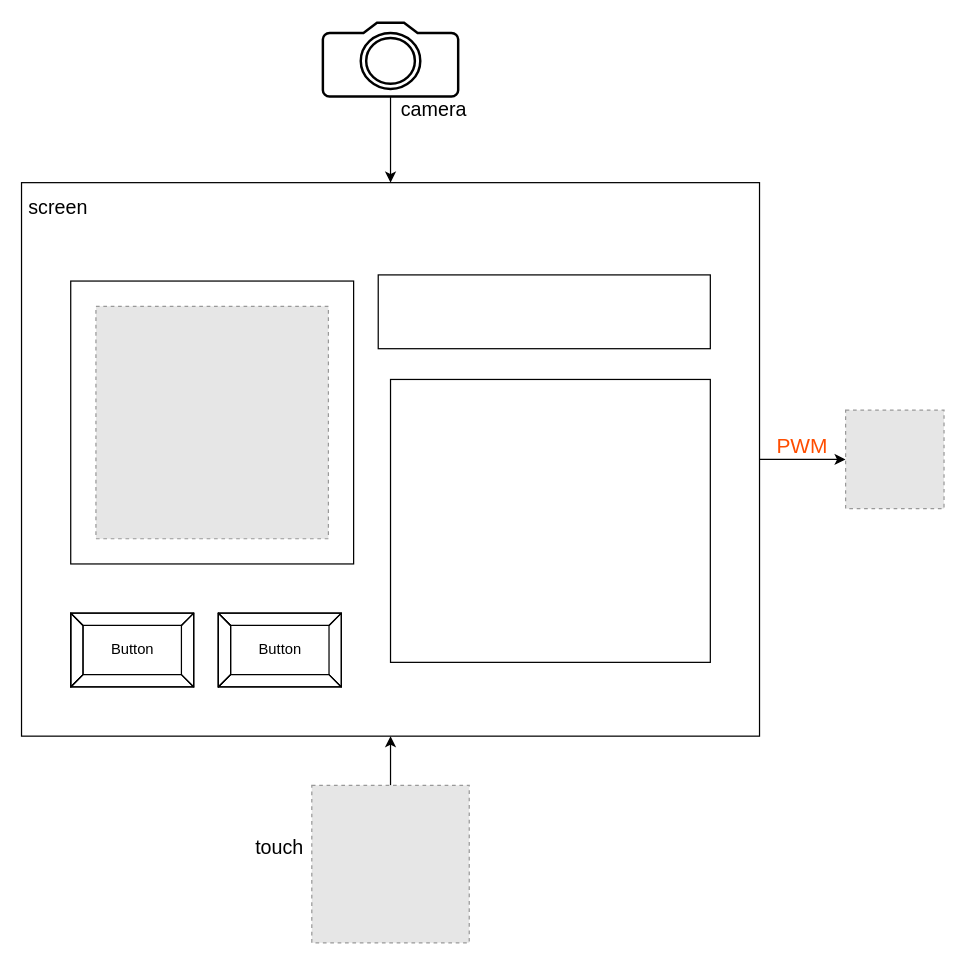
The diagram is 966 pixels wide and 964 high, and some of its shapes have lost their labels. Grey dashed boxes stand in for pictures. The shapes that lost their labels are listed below. From the top down, each one's centre as x and y in pixels, then its label:
At pixel 543 311: "user name：zhangsan".
At pixel 549 520: "Personal information".
